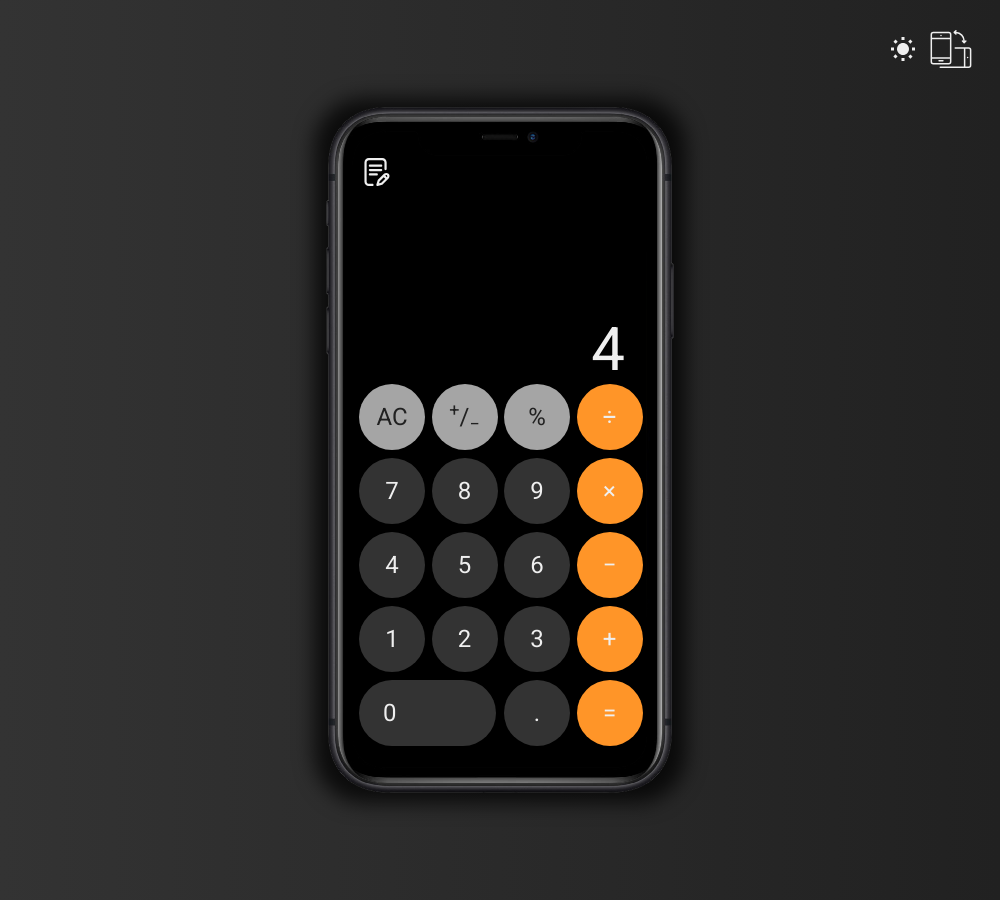
Test case: Calculator › actions › key press › should display "15,625" when typing "5 * 5" and then entering the "=" key 5 consecutive times
Step 1. Click the button with aria-label "clear" → (392, 417), box [359,384,425,450]
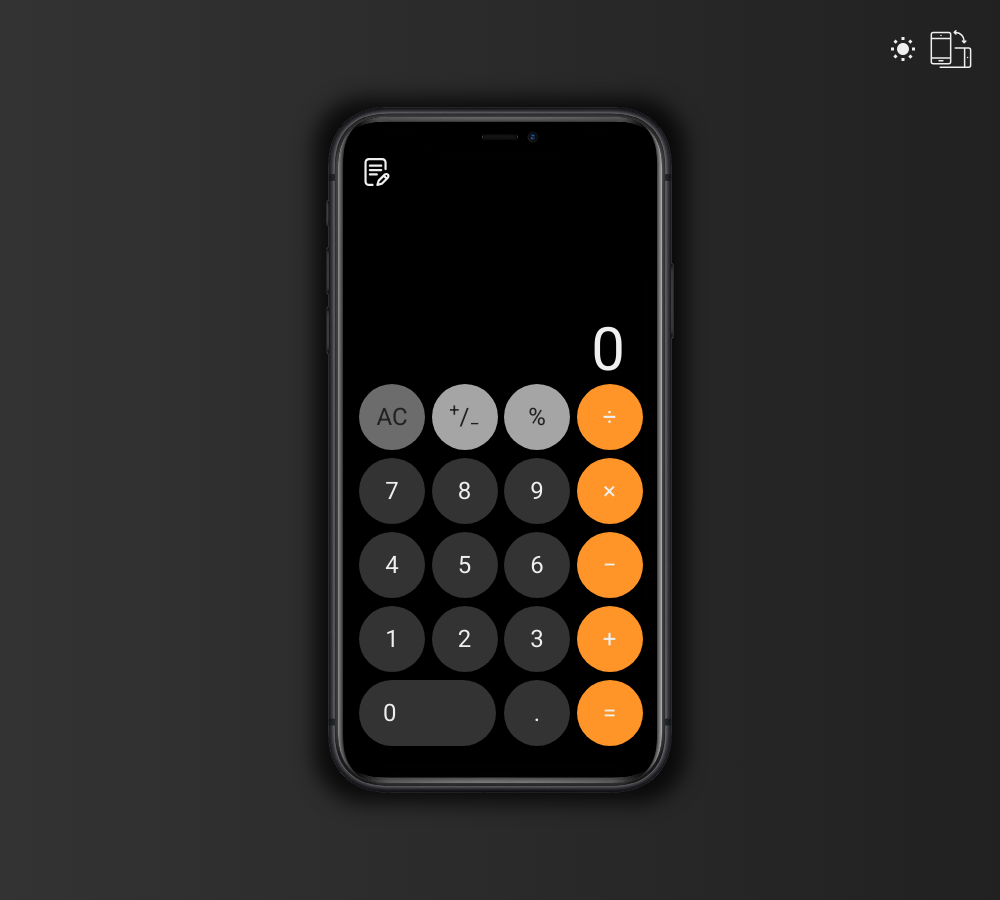
Step 2. Press 5*5=====
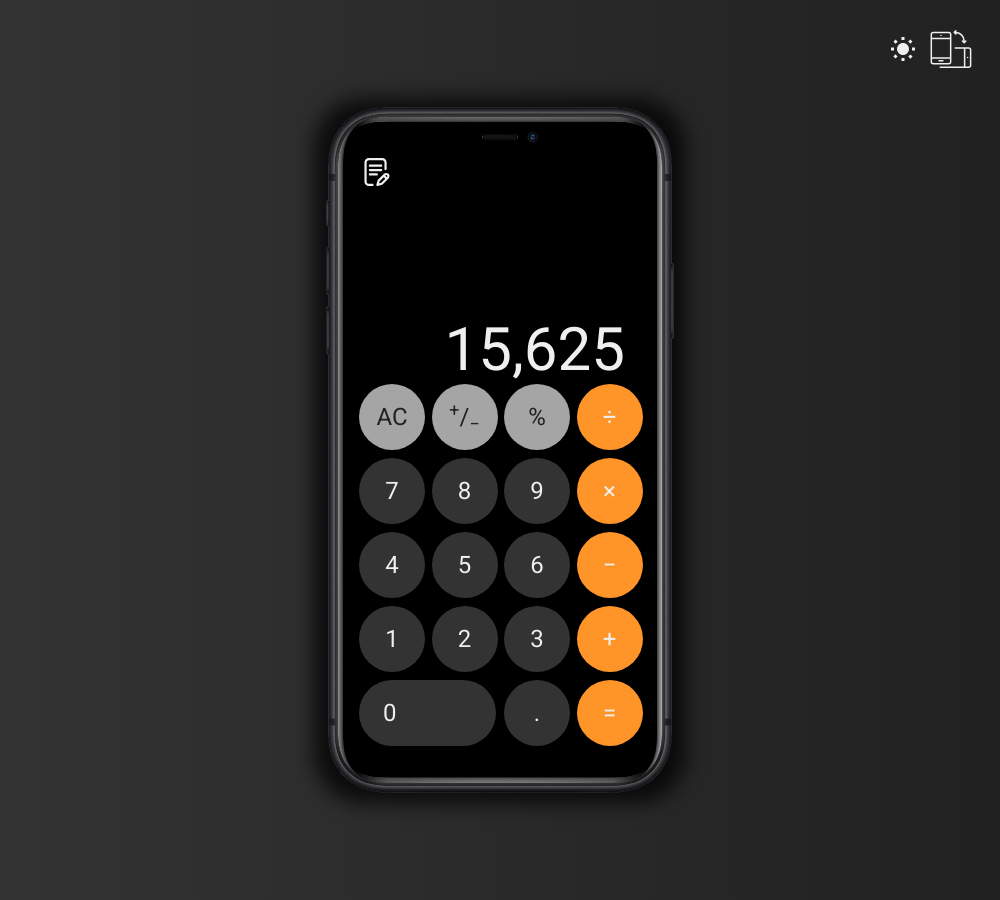
Check: the text with test id "display" reads "15,625", box [355,320,645,380]
